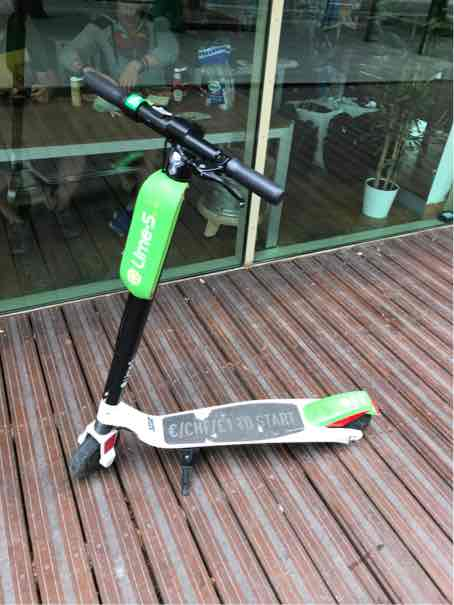scooter: (65, 64, 377, 503)
